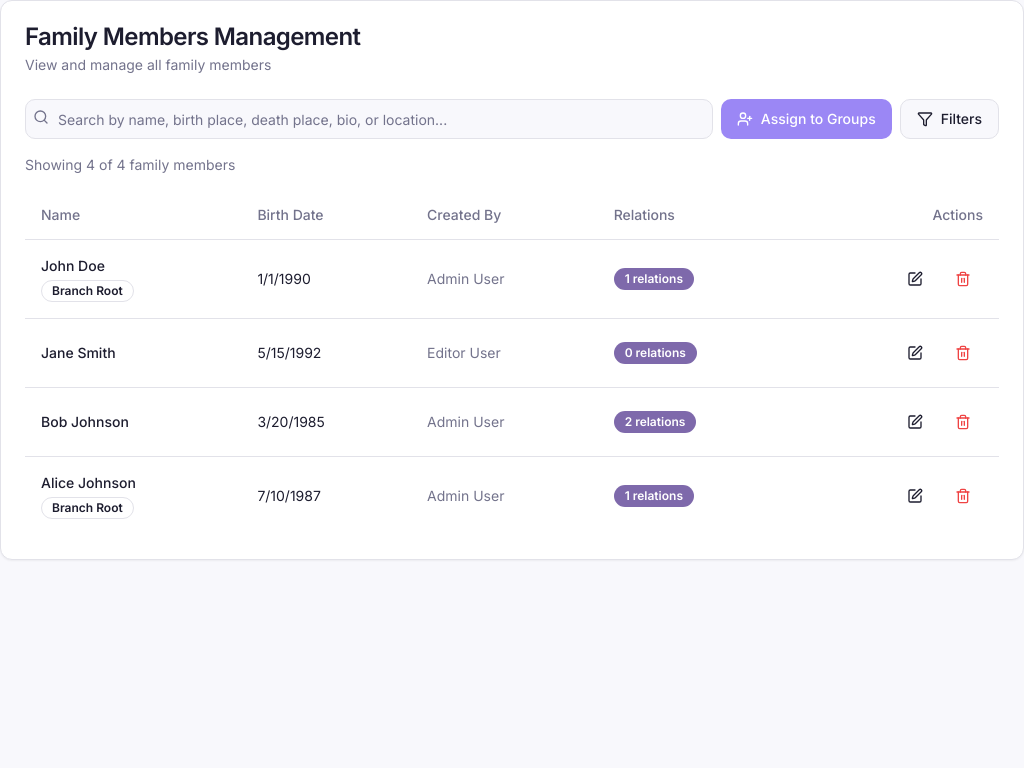
Test: FamilyMembersTab › Search Functionality › should filter members by birth place
Replace the text in the field with placeholder "Search by name, birth place" with "New York": (369, 119) [25, 99, 713, 139]
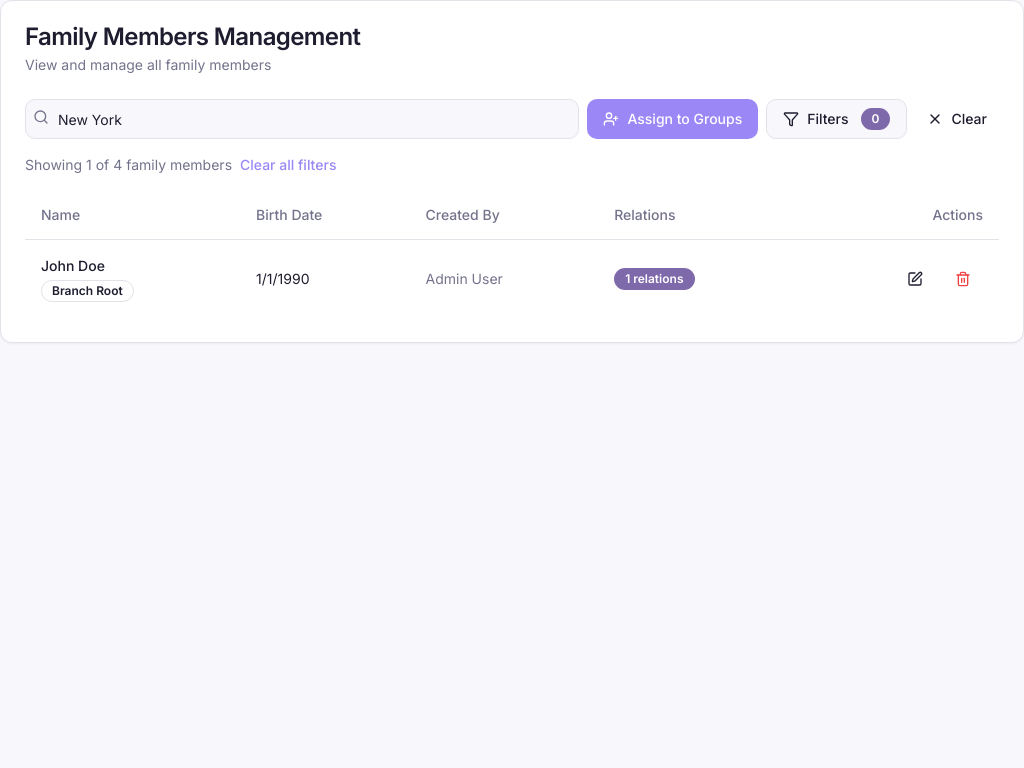
Expected: the text "John Doe" is shown, [41, 256, 105, 274]
Now the text "Jane Smith" is gone
